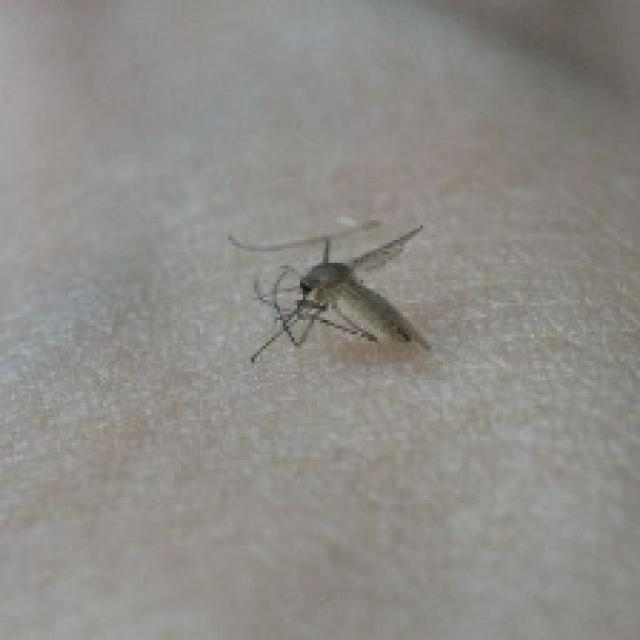culex: (226, 214, 431, 363)
